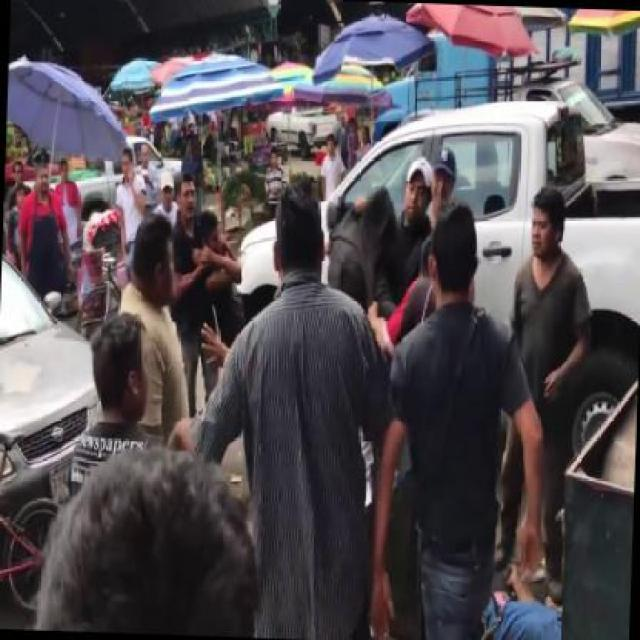fight: (322, 151, 436, 284), (168, 168, 246, 301)
